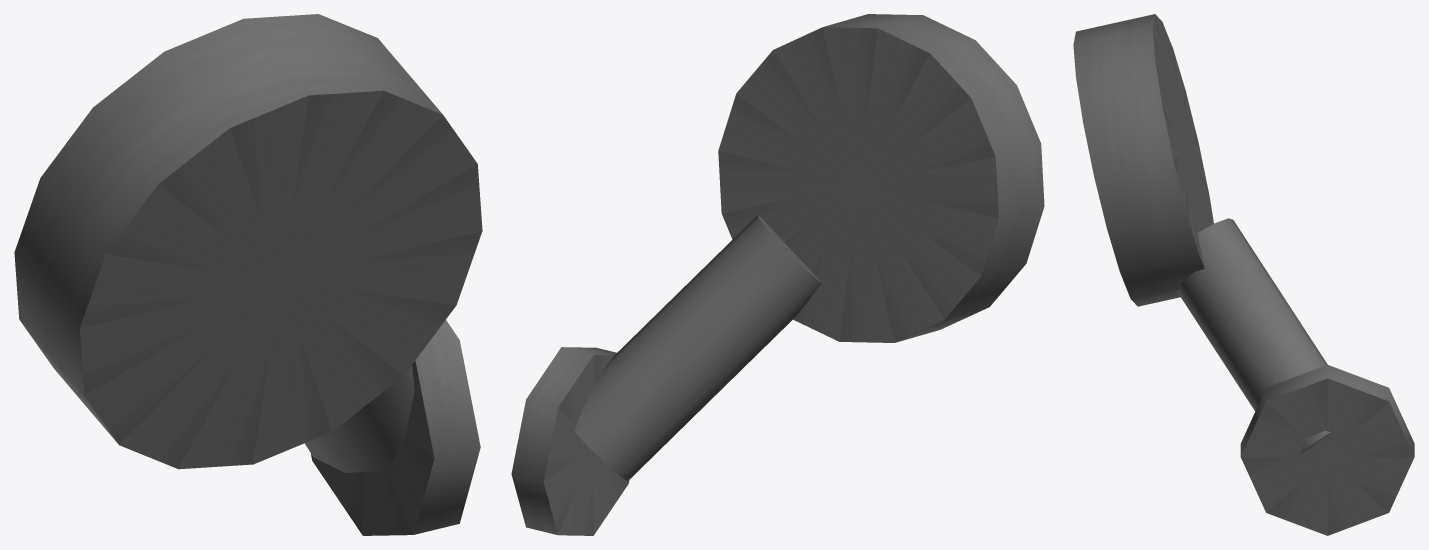
Rendered from mastarmcurve_8x2_c5_east.obj.
The picture shows the model from 3 angles, left to right: view 1: azimuth 30°, elevation 25°; view 2: azimuth 150°, elevation 25°; view 3: azimuth 270°, elevation 25°; orthographic projection. The views are drawn at different scales.
Visible parts, largest first — view 1: mastarm_8x2_c5_east; view 2: mastarm_8x2_c5_east; view 3: mastarm_8x2_c5_east.
Part boxes in pixels (box(x1,y1,x2,y2)): mastarm_8x2_c5_east: box(14, 14, 482, 535); mastarm_8x2_c5_east: box(511, 14, 1044, 535); mastarm_8x2_c5_east: box(1073, 14, 1414, 535).
Size of the model in its own units: 0.8348 by 1.06 by 0.7849.
